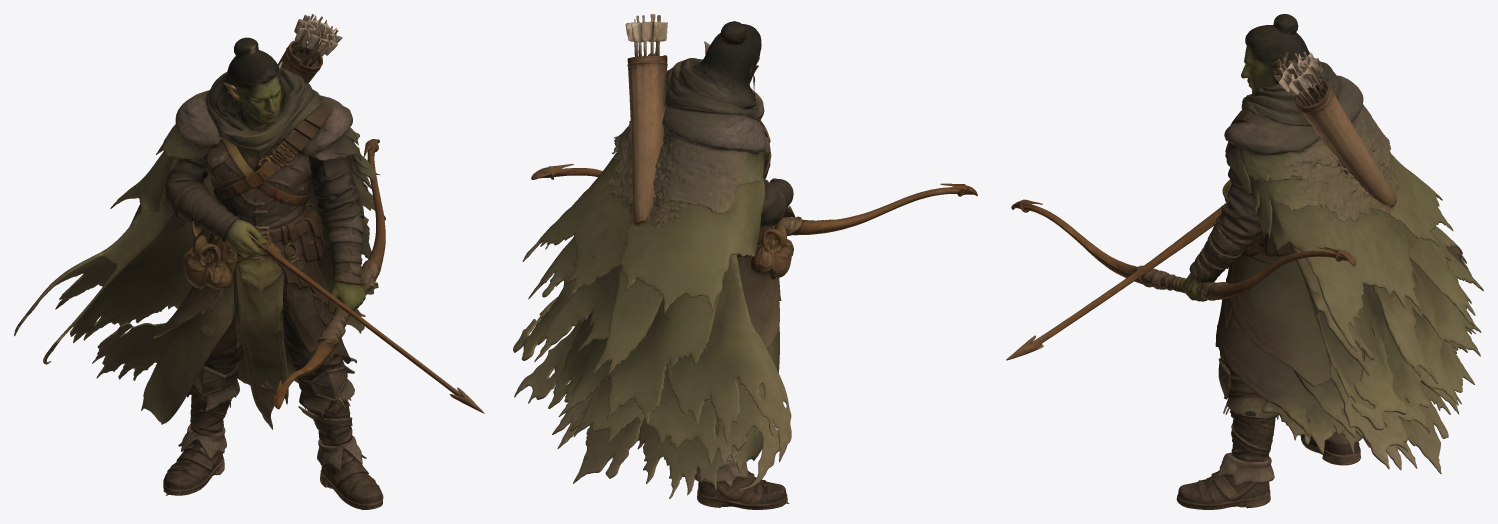
The model's file is half_orc_ranger_full_male_01.glb.
3 renders of one model, left to right at view 1: azimuth 30°, elevation 25°; view 2: azimuth 150°, elevation 25°; view 3: azimuth 270°, elevation 25°, orthographic.
Visible parts, largest first — view 1: material; view 2: material; view 3: material.
Part boxes in pixels (x1,y1,x2,y2): material: (14,14,484,509); material: (513,14,977,509); material: (1006,14,1483,509).
Bounding box in the file's own units: 0.7028 × 0.9584 × 0.921.
Materials: 1 (1 with a texture image).
